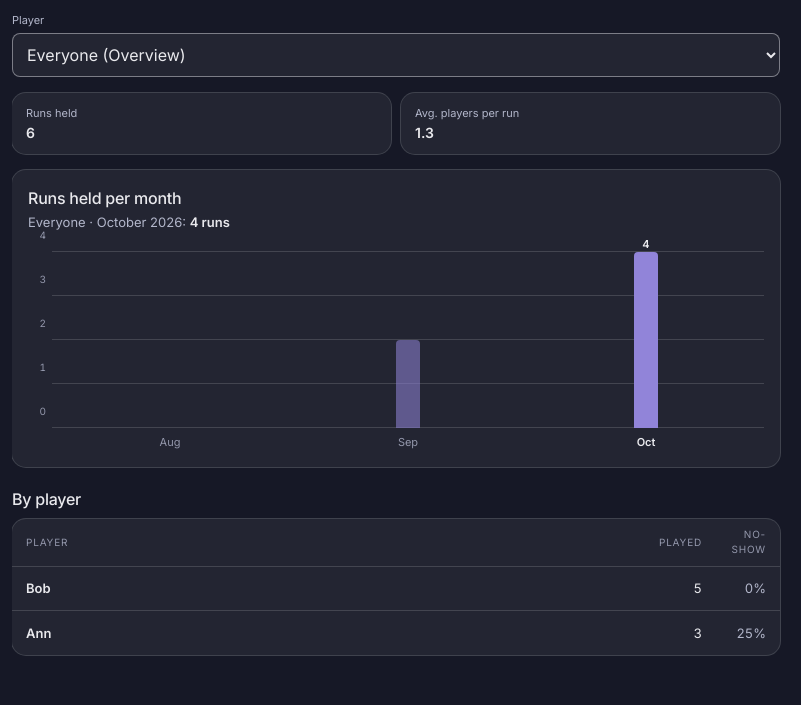
Test: StatsView player › shows played, last played, no-shows and no-show rate
Select "Ann" in the dropdown at point(396, 55), box [12, 33, 780, 77]
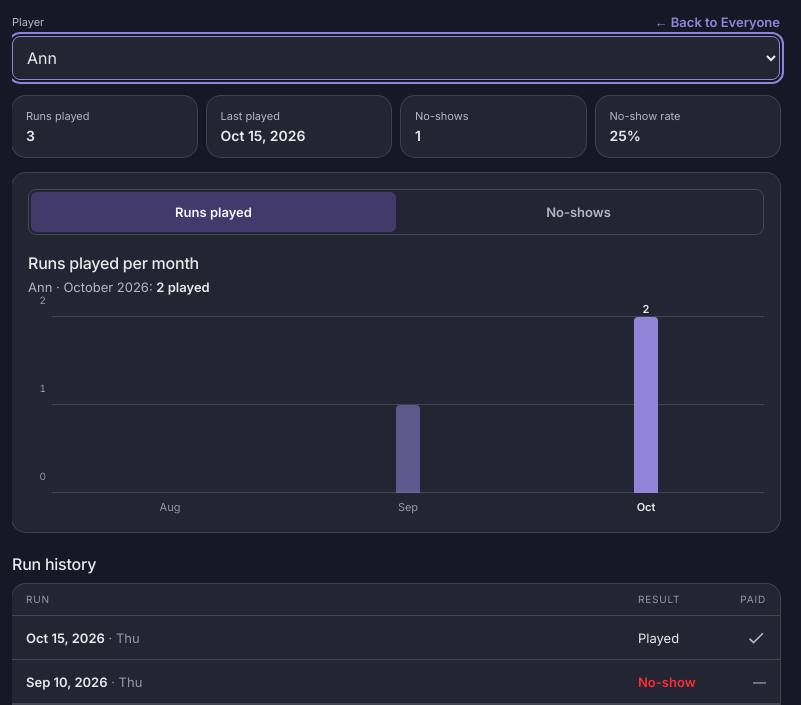
Check: the text "3" is shown, box [26, 127, 35, 144]
Check: the text "Oct 15, 2026" is shown, box [220, 127, 305, 144]
Check: the text "1" next to "25%" is shown, box [415, 127, 421, 144]
